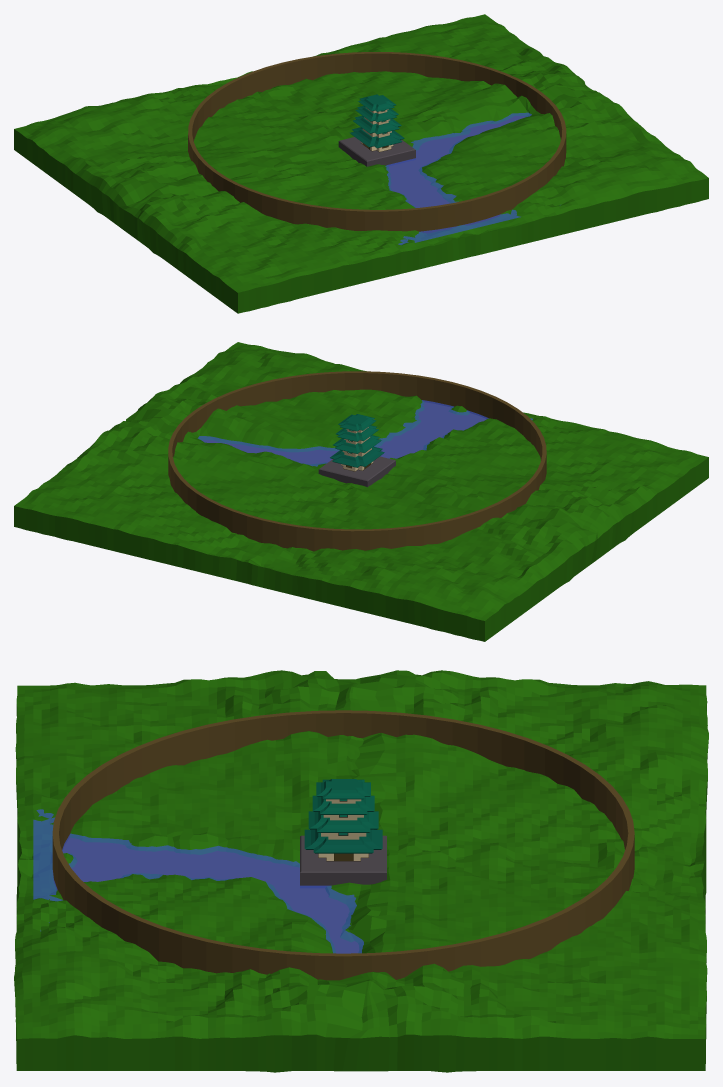
The model's file is fullmaptemp.fbx.
The picture shows the model from 3 angles, top to bottom: view 1: azimuth 30°, elevation 25°; view 2: azimuth 150°, elevation 25°; view 3: azimuth 270°, elevation 25°; orthographic projection. The views are drawn at different scales.
Parts seen in each view (by area): view 1: Cube, Cylinder, waterlevel, templebase, Cube.003, Cube.002, Cube.004; view 2: Cube, Cylinder, waterlevel, templebase, Cube.003, Cube.002, Cube.004; view 3: Cube, Cylinder, waterlevel, templebase, Cube.003, Cube.002, Cube.004, Cube.001.
Boxes of the visible parts, x1=… form: Cube: x1=14, y1=14, x2=708, y2=313; Cylinder: x1=188, y1=52, x2=566, y2=233; waterlevel: x1=385, y1=112, x2=531, y2=244; templebase: x1=338, y1=137, x2=415, y2=166; Cube.003: x1=349, y1=127, x2=404, y2=152; Cube.002: x1=353, y1=116, x2=401, y2=137; Cube.004: x1=358, y1=94, x2=395, y2=113; Cube: x1=14, y1=342, x2=708, y2=641; Cylinder: x1=168, y1=371, x2=546, y2=551; waterlevel: x1=198, y1=400, x2=532, y2=466; templebase: x1=318, y1=456, x2=395, y2=487; Cube.003: x1=330, y1=446, x2=384, y2=471; Cube.002: x1=333, y1=435, x2=381, y2=457; Cube.004: x1=338, y1=414, x2=376, y2=433; Cube: x1=14, y1=670, x2=708, y2=1072; Cylinder: x1=52, y1=710, x2=634, y2=980; waterlevel: x1=33, y1=809, x2=363, y2=953; templebase: x1=300, y1=835, x2=386, y2=887; Cube.003: x1=304, y1=829, x2=382, y2=861; Cube.002: x1=308, y1=811, x2=378, y2=839; Cube.004: x1=316, y1=779, x2=370, y2=803; Cube.001: x1=312, y1=795, x2=374, y2=820.
Bounding box in the file's own units: 8379 × 1617 × 6891.
